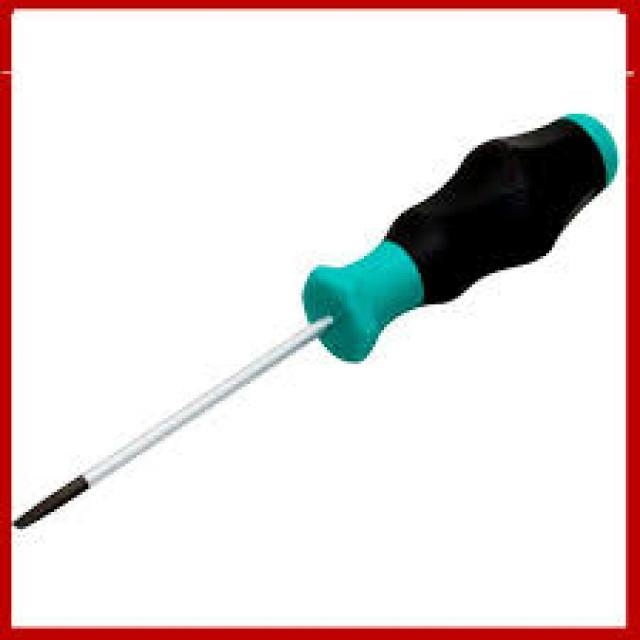screwdriver: (9, 108, 622, 532)
